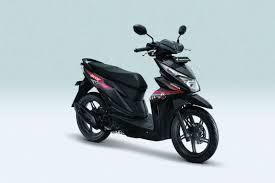motorcycle: (62, 21, 228, 169)
